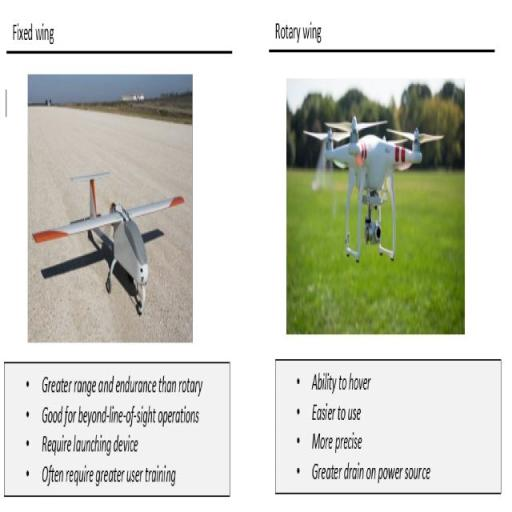uav: (32, 138, 189, 328)
